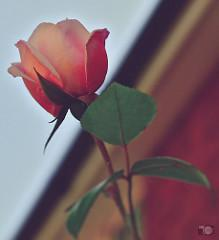Rose: (7, 13, 113, 120)
